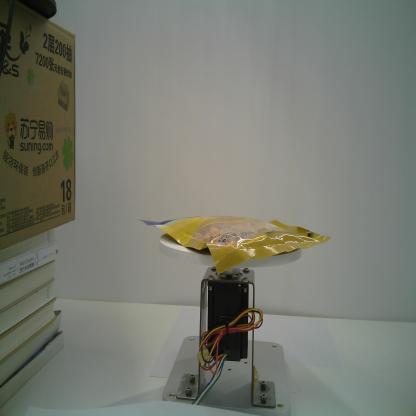Dried Fruit: (136, 211, 333, 276)
